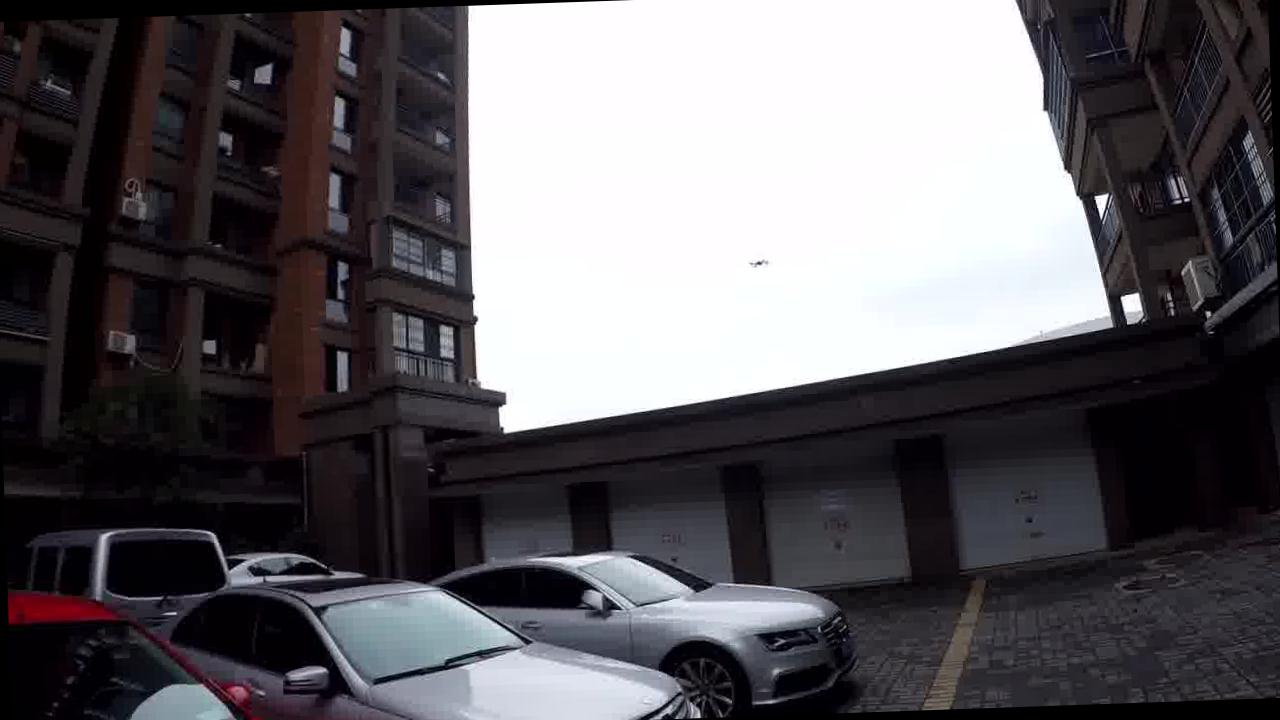drone: (739, 231, 793, 272)
